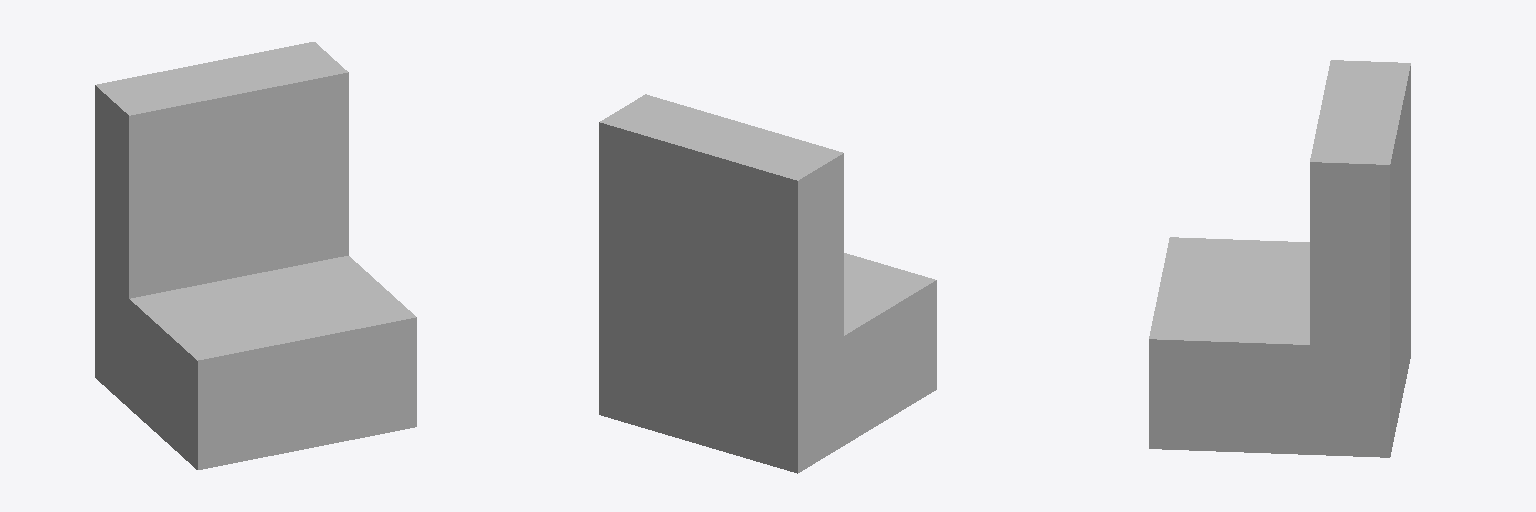
File: krabChair.obj
3 views of the same model, side by side, from view 1: azimuth 30°, elevation 25°; view 2: azimuth 150°, elevation 25°; view 3: azimuth 270°, elevation 25° (orthographic).
Parts seen in each view (by area): view 1: krabChair; view 2: krabChair; view 3: krabChair.
Boxes of the visible parts, x1,y1,x2,y2 form: krabChair: [95, 42, 416, 469]; krabChair: [599, 94, 936, 473]; krabChair: [1149, 60, 1410, 457].
Bounding box in the file's own units: 0.812 × 1 × 0.8121.